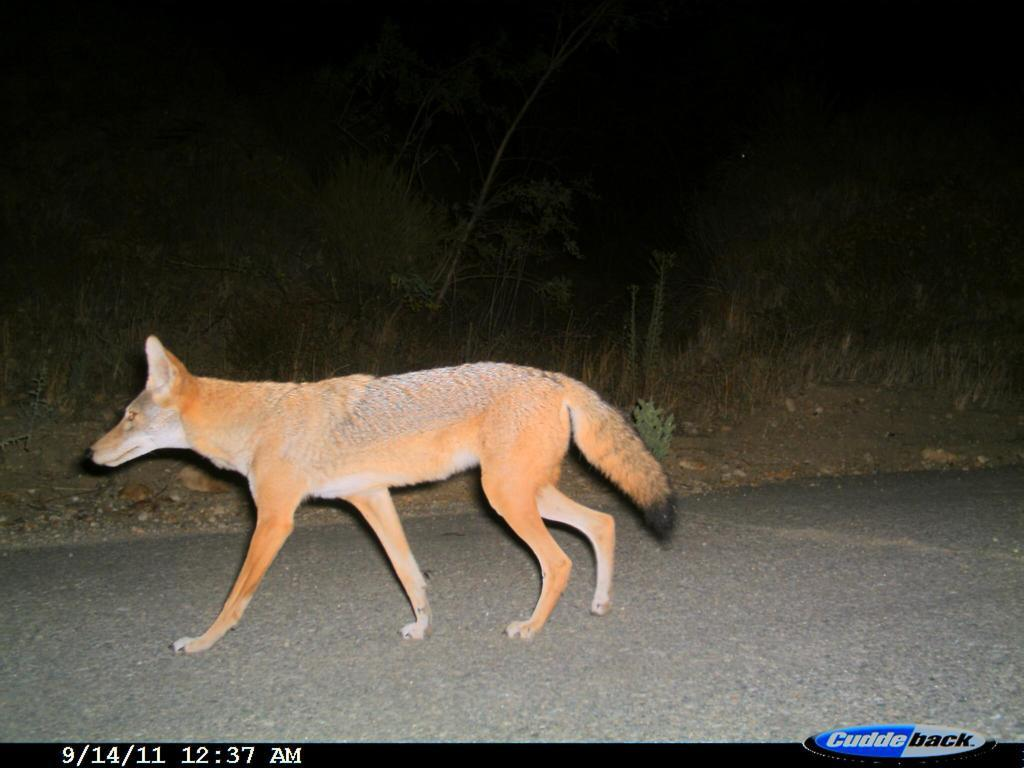coyote: (77, 324, 689, 660)
